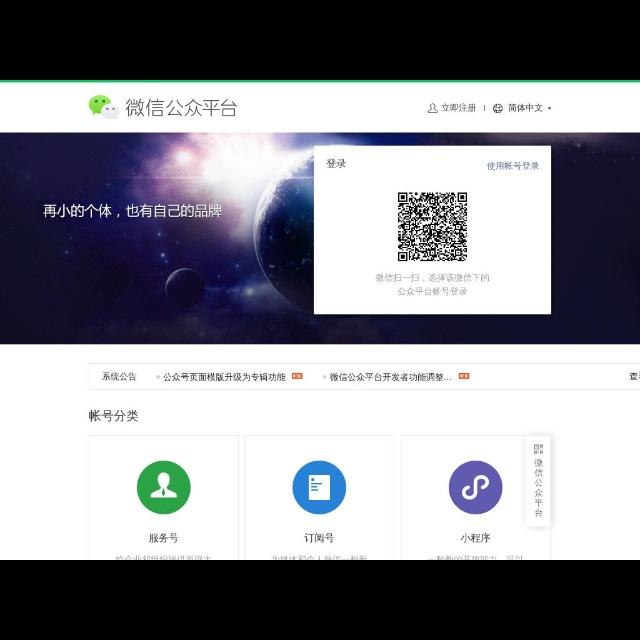backgroundimage: (1, 133, 639, 344)
icon: (427, 104, 439, 116), (534, 443, 544, 455), (492, 104, 502, 114), (548, 106, 550, 110)
image: (398, 192, 468, 262), (448, 461, 504, 515), (137, 462, 191, 514), (294, 462, 346, 514), (90, 96, 120, 120)
spinner: (508, 102, 554, 116)
text: (42, 200, 222, 222), (374, 272, 492, 298), (125, 99, 237, 118), (162, 372, 286, 386), (331, 372, 454, 384), (532, 458, 546, 520), (88, 410, 140, 424), (487, 160, 541, 172), (102, 370, 136, 384), (114, 555, 216, 559), (272, 554, 368, 558), (442, 102, 476, 112), (508, 104, 542, 114), (150, 532, 178, 544), (304, 533, 336, 543), (462, 533, 492, 543), (326, 159, 346, 171)
toolbar: (1, 84, 639, 132)
